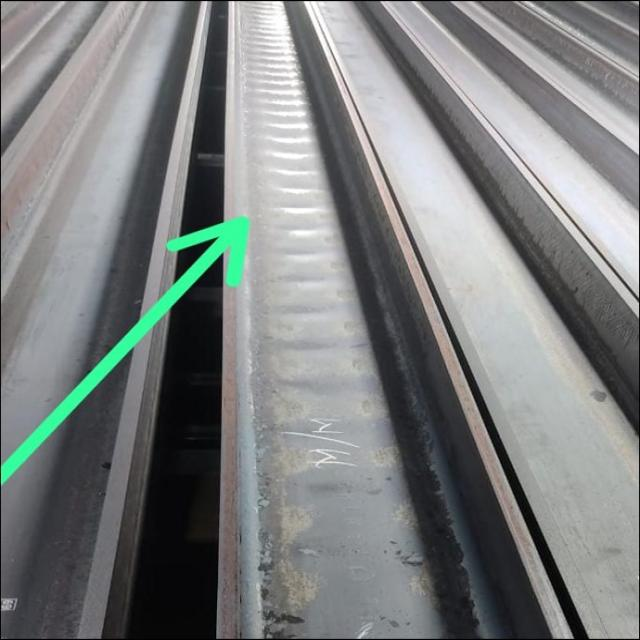defect: (241, 0, 412, 519)
